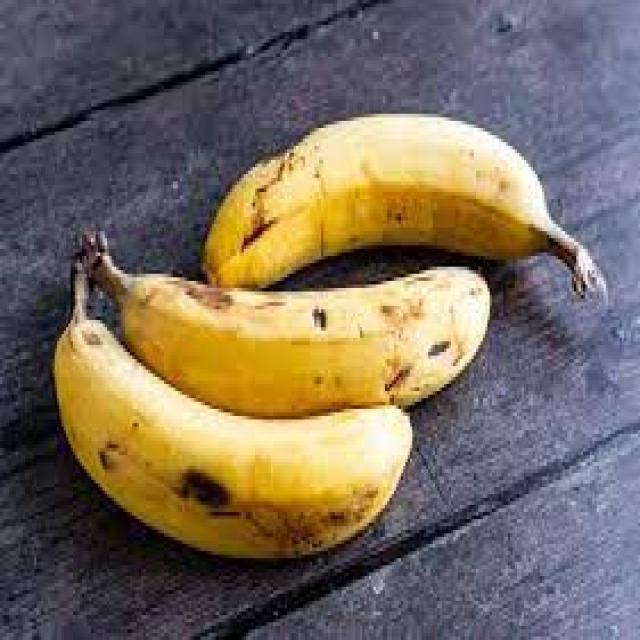Banana: (48, 228, 503, 560), (198, 97, 616, 320)
